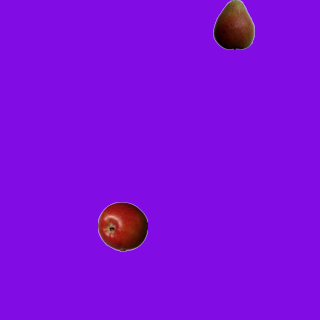Apple Braeburn: (97, 201, 147, 251)
Pear Forelle: (208, 0, 258, 49)
